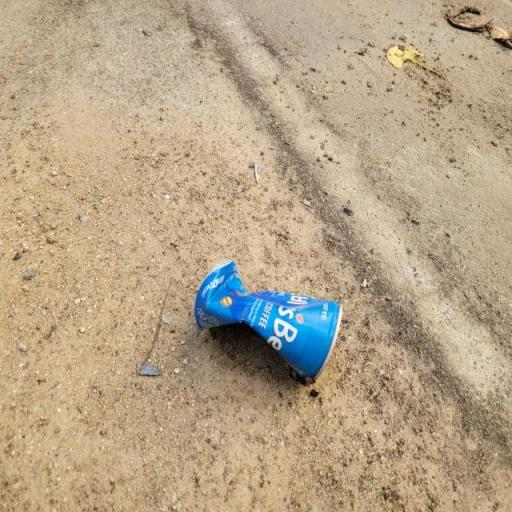metal: (174, 250, 352, 390)
